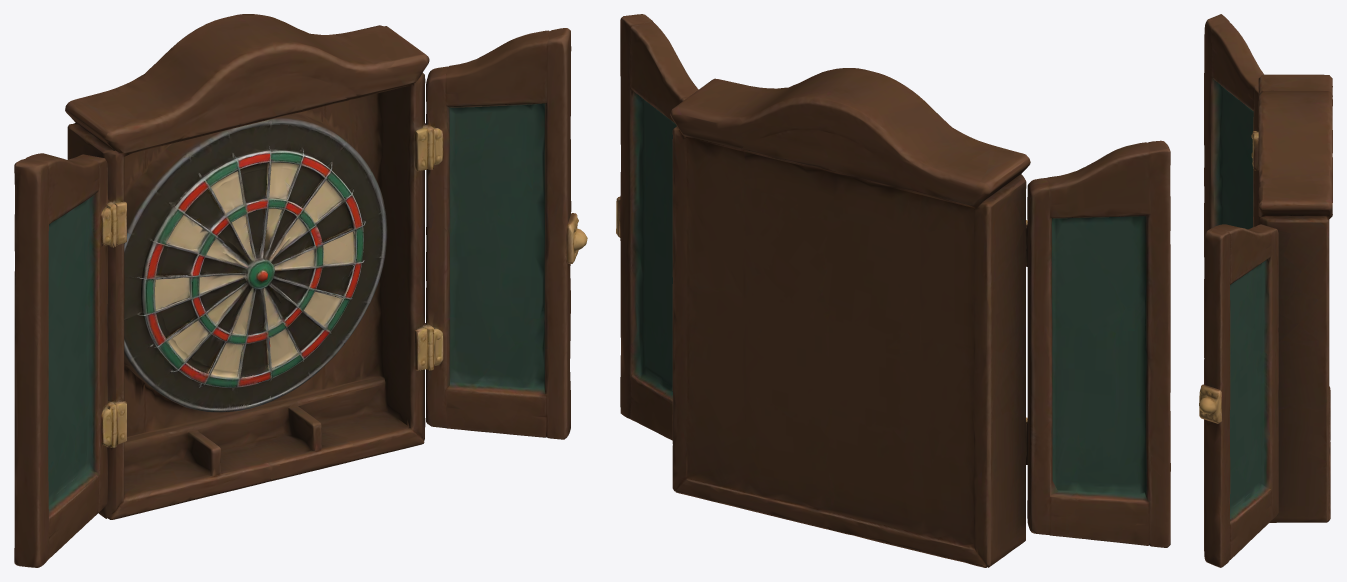
File: cabinet.glb
3 views of the same model, side by side, from view 1: azimuth 30°, elevation 25°; view 2: azimuth 150°, elevation 25°; view 3: azimuth 270°, elevation 25° (orthographic). The views are drawn at different scales.
Parts seen in each view (by area): view 1: tripo_node_29d0b1bc-3067-4ce1-8db0-f2c29547380f; view 2: tripo_node_29d0b1bc-3067-4ce1-8db0-f2c29547380f; view 3: tripo_node_29d0b1bc-3067-4ce1-8db0-f2c29547380f.
Part boxes in pixels (<box>): tripo_node_29d0b1bc-3067-4ce1-8db0-f2c29547380f: <box>14,14,587,567</box>; tripo_node_29d0b1bc-3067-4ce1-8db0-f2c29547380f: <box>616,14,1170,567</box>; tripo_node_29d0b1bc-3067-4ce1-8db0-f2c29547380f: <box>1199,14,1332,567</box>.
Bounding box in the file's own units: 0.9803 × 0.7241 × 0.2444.
Materials: 1 (1 with a texture image).
